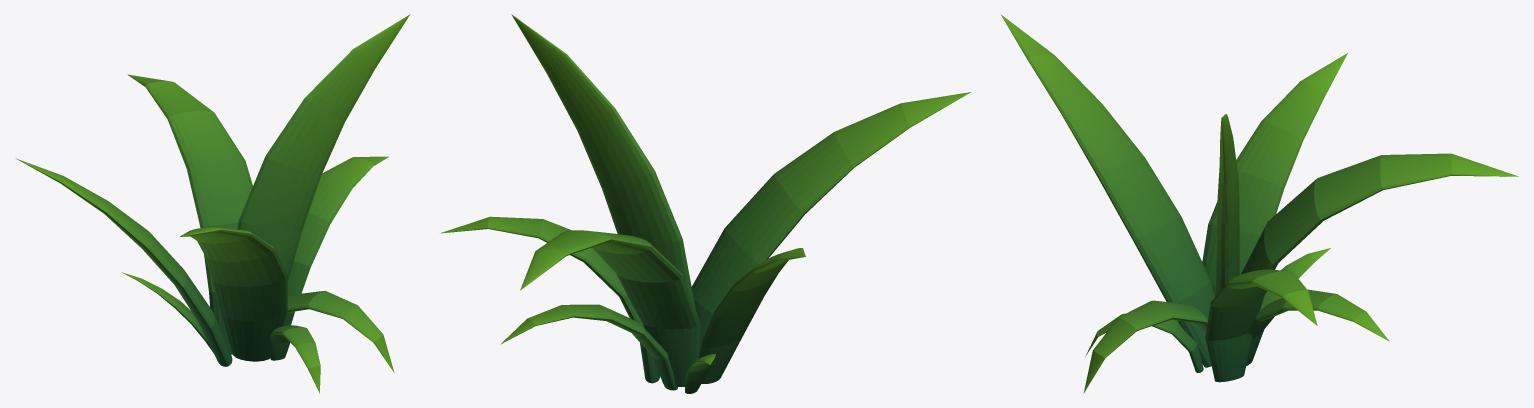
Rendered from Grass 01.fbx.
3 renders of one model, left to right at view 1: azimuth 30°, elevation 25°; view 2: azimuth 150°, elevation 25°; view 3: azimuth 270°, elevation 25°, orthographic. The views are drawn at different scales.
Visible parts, largest first — view 1: pCylinder11, pCylinder7, pCylinder3, pCylinder5, pCylinder9, pCylinder8, pCylinder10, pCylinder6; view 2: pCylinder7, pCylinder11, pCylinder3, pCylinder5, pCylinder9, pCylinder4, pCylinder6; view 3: pCylinder7, pCylinder5, pCylinder3, pCylinder9, pCylinder11, pCylinder8, pCylinder4, pCylinder10, pCylinder6.
Part boxes in pixels (left/top/right/bottom): pCylinder11: left=237, top=14, right=410, bottom=280; pCylinder7: left=179, top=227, right=287, bottom=361; pCylinder3: left=127, top=74, right=252, bottom=354; pCylinder5: left=15, top=158, right=232, bottom=366; pCylinder9: left=282, top=156, right=388, bottom=326; pCylinder8: left=287, top=290, right=394, bottom=372; pCylinder10: left=269, top=325, right=320, bottom=393; pCylinder6: left=122, top=272, right=213, bottom=353; pCylinder7: left=691, top=92, right=970, bottom=347; pCylinder11: left=511, top=14, right=695, bottom=308; pCylinder3: left=520, top=230, right=700, bottom=386; pCylinder5: left=698, top=248, right=805, bottom=383; pCylinder9: left=440, top=216, right=659, bottom=383; pCylinder4: left=500, top=304, right=677, bottom=390; pCylinder6: left=685, top=354, right=715, bottom=393; pCylinder7: left=1000, top=14, right=1215, bottom=367; pCylinder5: left=1202, top=53, right=1347, bottom=296; pCylinder3: left=1240, top=153, right=1518, bottom=274; pCylinder9: left=1205, top=269, right=1317, bottom=382; pCylinder11: left=1215, top=114, right=1239, bottom=296; pCylinder8: left=1083, top=300, right=1208, bottom=393; pCylinder4: left=1246, top=289, right=1389, bottom=365; pCylinder10: left=1085, top=313, right=1203, bottom=372; pCylinder6: left=1260, top=248, right=1330, bottom=310.
Bounding box in the file's own units: 49.3 × 40.18 × 56.68.
